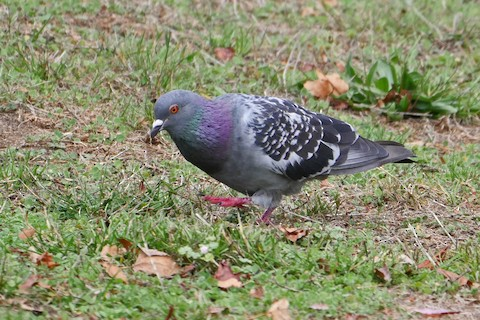pigeon: (149, 86, 415, 228)
